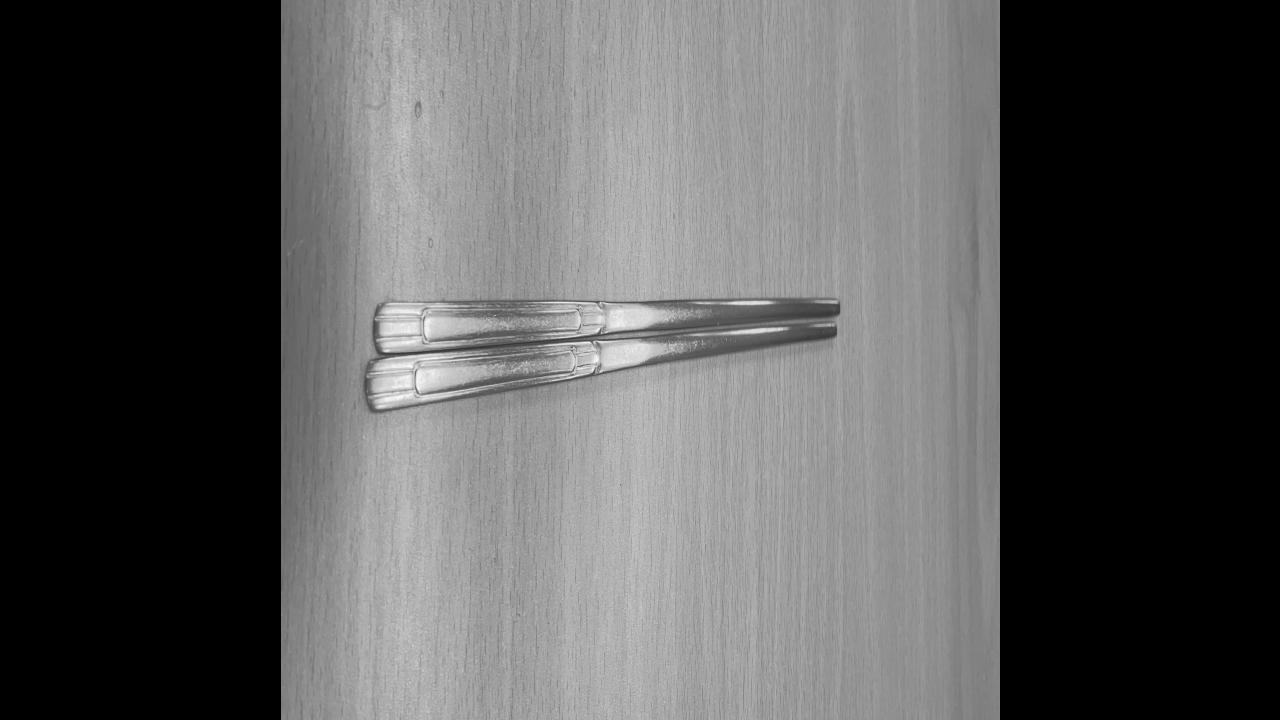chopstick: (366, 300, 836, 416)
